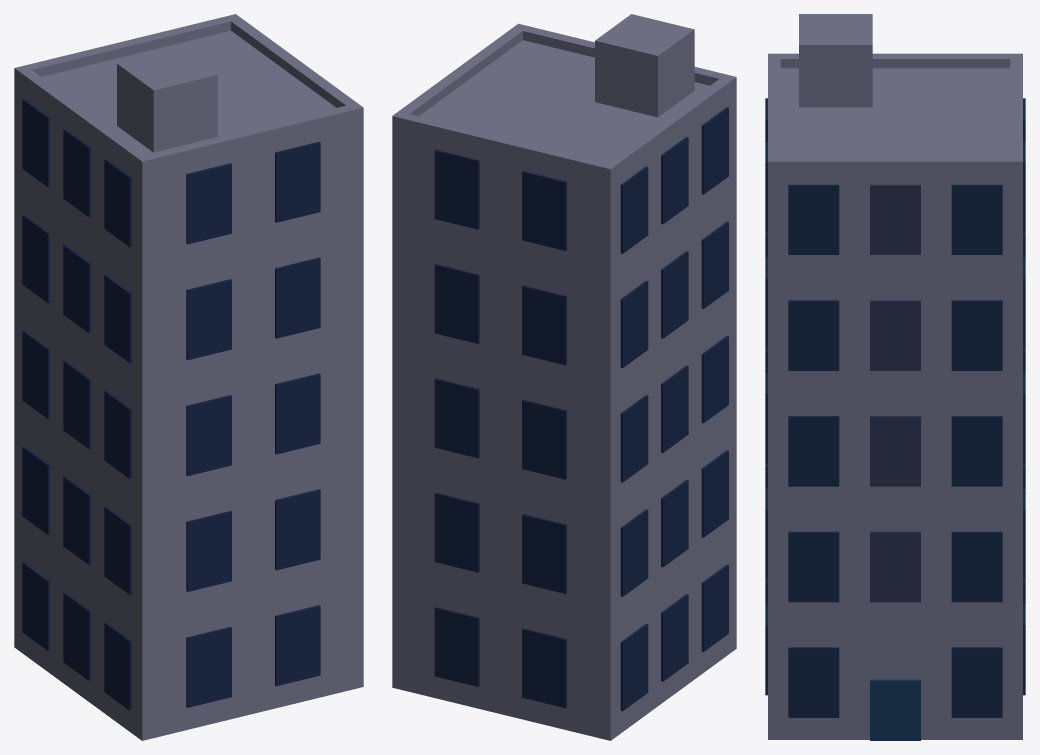
File: Buildind中2.fbx
3 renders of one model, left to right at view 1: azimuth 30°, elevation 25°; view 2: azimuth 150°, elevation 25°; view 3: azimuth 270°, elevation 25°, orthographic.
Parts seen in each view (by area): view 1: 立方体.011; view 2: 立方体.011; view 3: 立方体.011.
Part boxes in pixels (bbox=[...]): 立方体.011: bbox=[14, 14, 363, 740]; 立方体.011: bbox=[392, 14, 736, 740]; 立方体.011: bbox=[765, 14, 1025, 740].
Size of the model in its own units: 1020 by 2729 by 1020.
